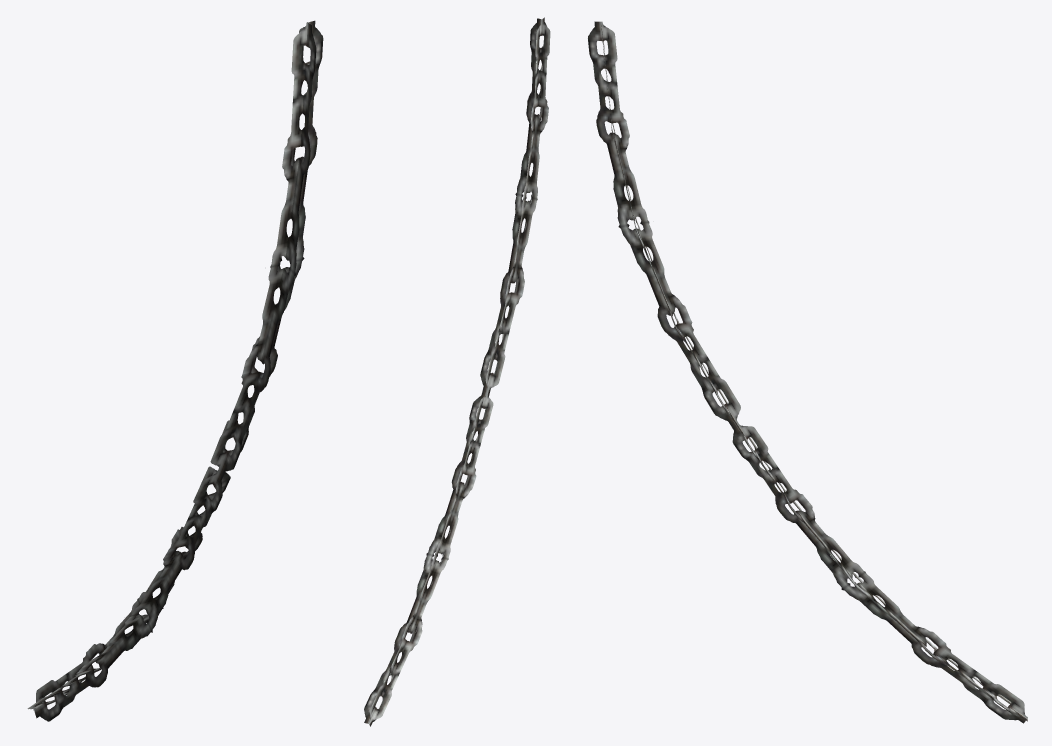
File: S_Build_Snowland121.FBX
The picture shows the model from 3 angles, left to right: view 1: azimuth 30°, elevation 25°; view 2: azimuth 150°, elevation 25°; view 3: azimuth 270°, elevation 25°; orthographic projection. The views are drawn at different scales.
Visible parts, largest first — view 1: S_Build_Snowland121; view 2: S_Build_Snowland121; view 3: S_Build_Snowland121.
Part boxes in pixels (<box>): S_Build_Snowland121: <box>27,20,323,721</box>; S_Build_Snowland121: <box>364,17,550,726</box>; S_Build_Snowland121: <box>588,21,1027,723</box>.
Size of the model in its own units: 79.23 by 912 by 1577.
